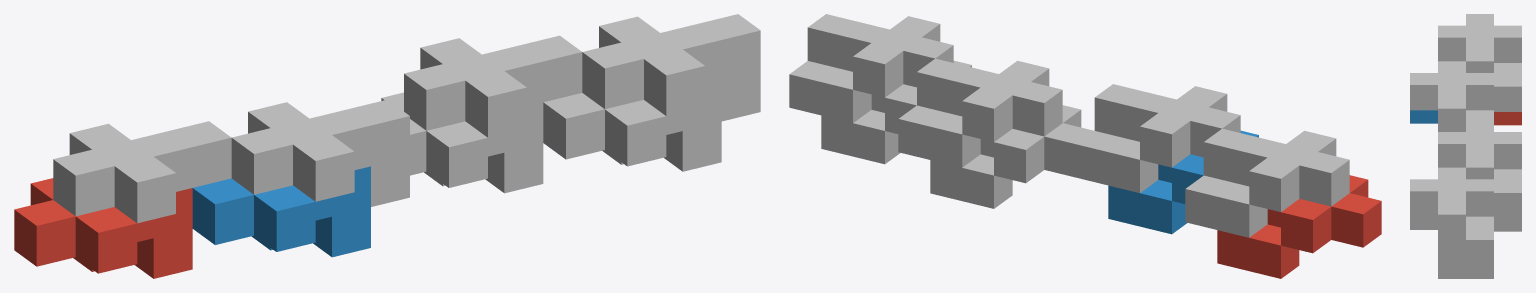
The model's file is tiling.obj.
The picture shows the model from 3 angles, left to right: view 1: azimuth 30°, elevation 25°; view 2: azimuth 150°, elevation 25°; view 3: azimuth 270°, elevation 25°; orthographic projection. The views are drawn at different scales.
Visible parts, largest first — view 1: copy_1_domain_8, copy_1_domain_4, copy_1_domain_3, copy_1_domain_7, copy_1_domain_1, copy_1_domain_6, copy_1_domain_2, copy_1_domain_5; view 2: copy_1_domain_3, copy_1_domain_7, copy_1_domain_8, copy_1_domain_4, copy_1_domain_1, copy_1_domain_5, copy_1_domain_2, copy_1_domain_6; view 3: copy_1_domain_8, copy_1_domain_3, copy_1_domain_7, copy_1_domain_4, copy_1_domain_6, copy_1_domain_1, copy_1_domain_2, copy_1_domain_5.
Boxes of the visible parts, box(x1,y1,x2,y2) form: copy_1_domain_8: box(582, 14, 760, 121); copy_1_domain_4: box(231, 99, 409, 206); copy_1_domain_3: box(53, 121, 231, 223); copy_1_domain_7: box(404, 35, 582, 137); copy_1_domain_1: box(14, 178, 192, 278); copy_1_domain_6: box(543, 81, 721, 171); copy_1_domain_2: box(192, 166, 370, 257); copy_1_domain_5: box(381, 92, 543, 193); copy_1_domain_3: box(1185, 128, 1349, 237); copy_1_domain_7: box(898, 58, 1062, 167); copy_1_domain_8: box(789, 14, 953, 122); copy_1_domain_4: box(1076, 84, 1240, 192); copy_1_domain_1: box(1217, 175, 1381, 278); copy_1_domain_5: box(930, 105, 1094, 208); copy_1_domain_2: box(1108, 130, 1258, 234); copy_1_domain_6: box(821, 60, 971, 164); copy_1_domain_8: box(1410, 167, 1493, 265); copy_1_domain_3: box(1438, 14, 1521, 111); copy_1_domain_7: box(1438, 120, 1521, 218); copy_1_domain_4: box(1410, 61, 1493, 131); copy_1_domain_6: box(1410, 216, 1493, 278); copy_1_domain_1: box(1494, 112, 1521, 125); copy_1_domain_2: box(1410, 110, 1437, 123); copy_1_domain_5: box(1494, 218, 1521, 231).
Bounding box in the file's own units: 18 × 3 × 4.
